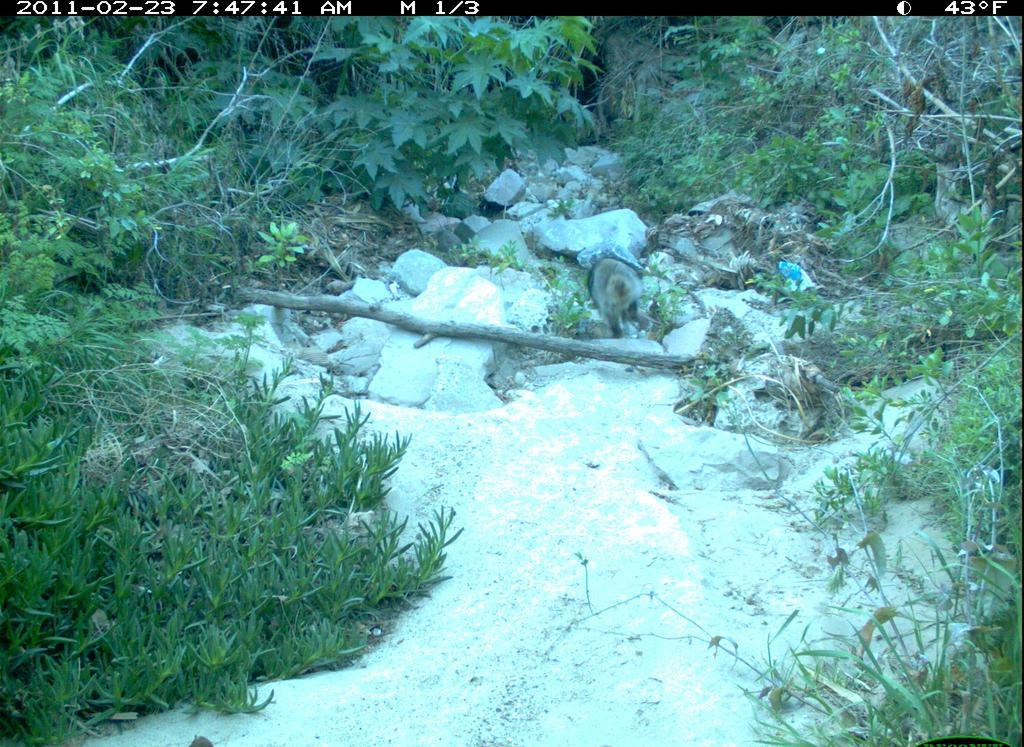raccoon: (577, 240, 678, 350)
